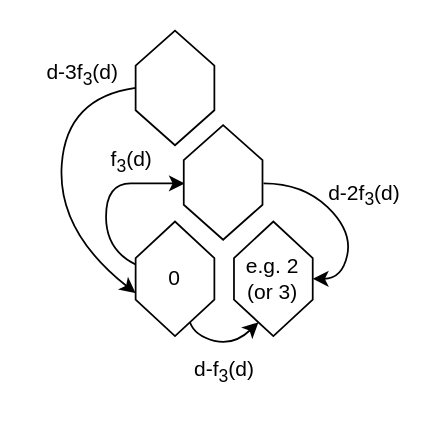
The diagram is 448 pixels wide and 429 high, and some of its shapes have lost their labels. The centre of each missing label's shape, as x and y in pixels:
"e.g. 0 (or -1)" belongs at [174,87].
"e.g. 1" belongs at [222,181].
